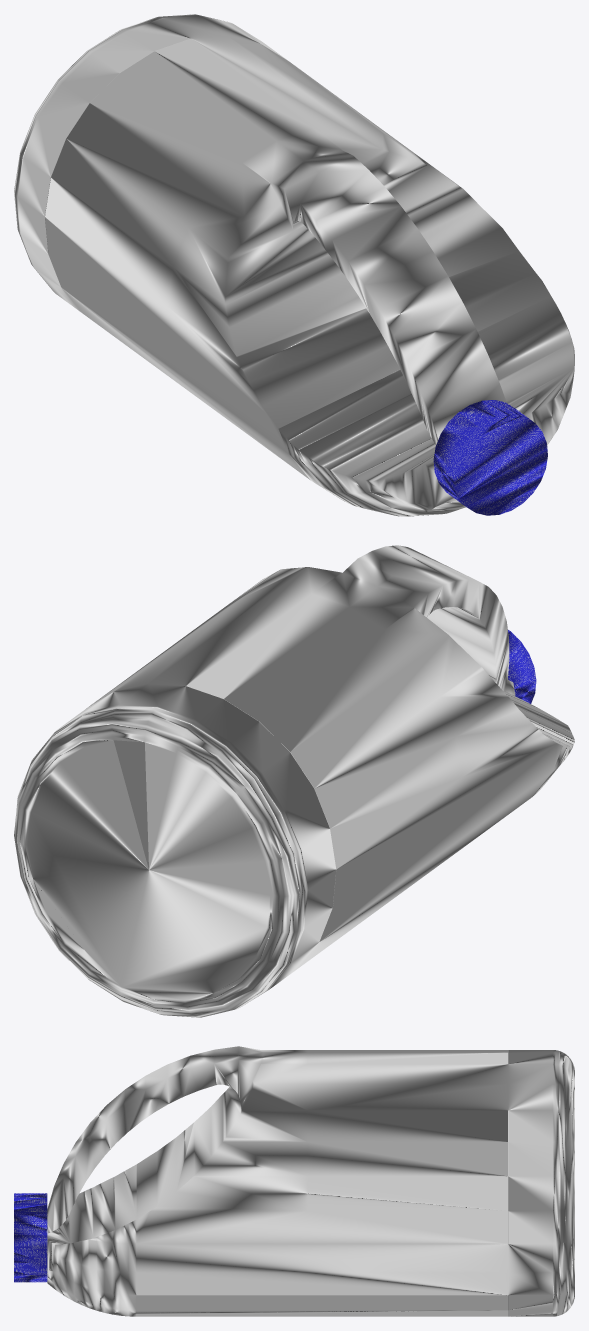
The model's file is model_align.obj.
3 views of the same model, one above another, from view 1: azimuth 30°, elevation 25°; view 2: azimuth 150°, elevation 25°; view 3: azimuth 270°, elevation 25° (orthographic). The views are drawn at different scales.
Size of the model in its own units: 0.0915 by 0.0927 by 0.1922.
